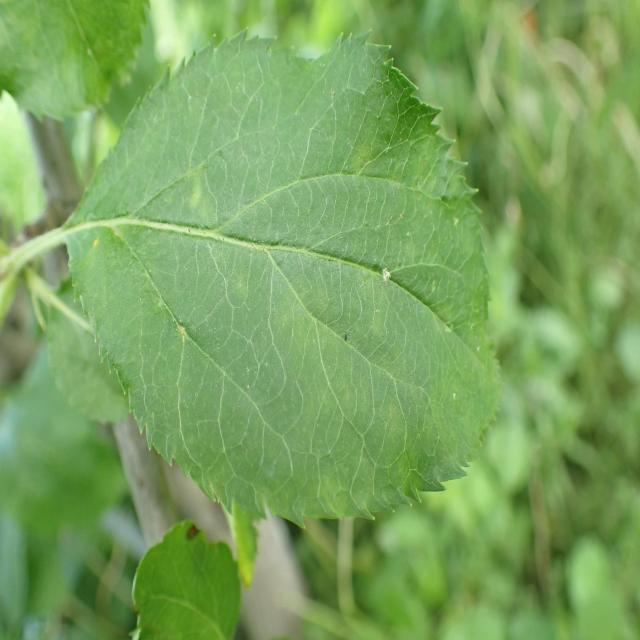scab: (101, 96, 462, 496)
